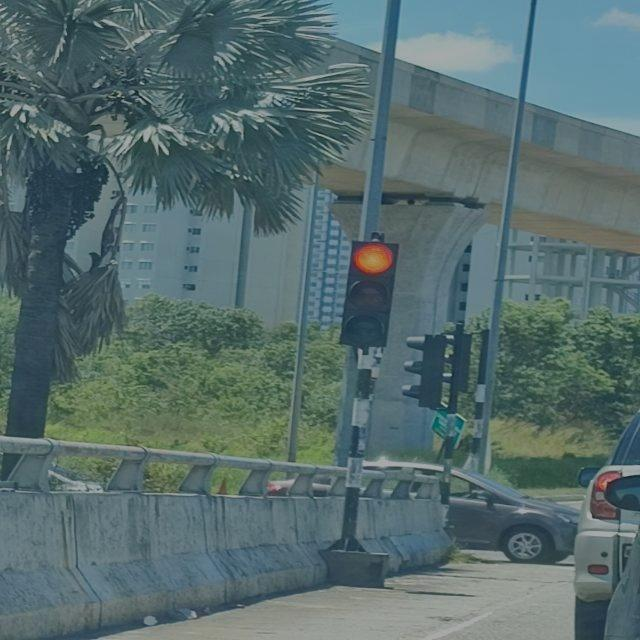Red: (338, 242, 402, 348)
